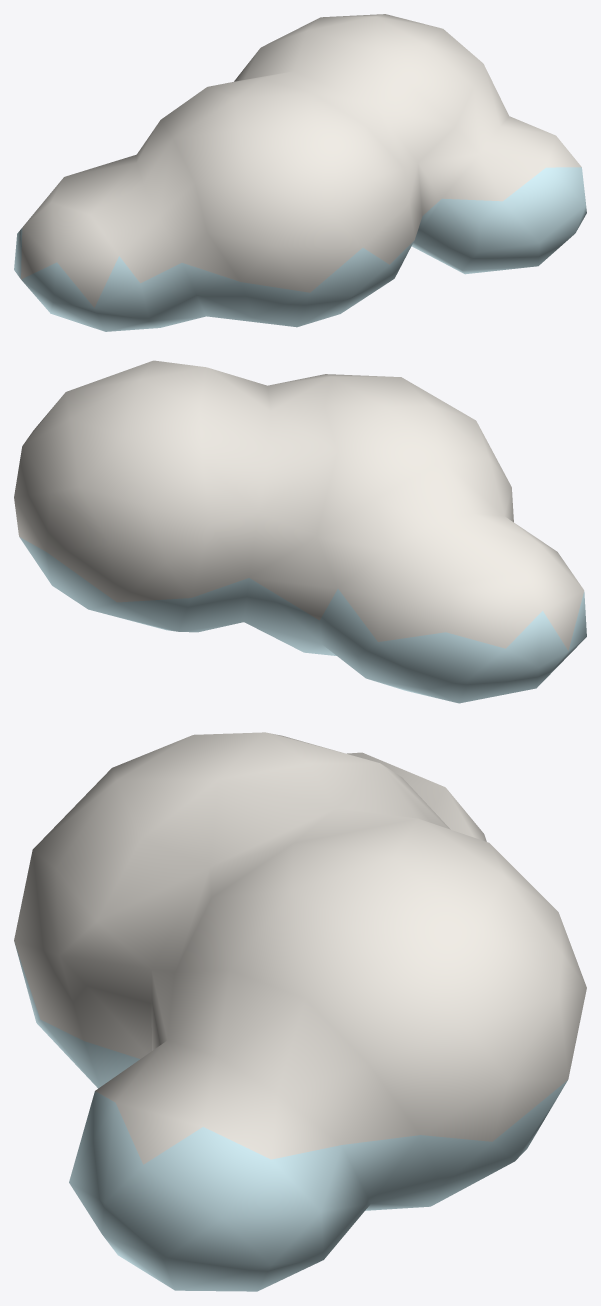
The model's file is mist_puff.fbx.
3 views of the same model, one above another, from view 1: azimuth 30°, elevation 25°; view 2: azimuth 150°, elevation 25°; view 3: azimuth 270°, elevation 25° (orthographic). The views are drawn at different scales.
Parts seen in each view (by area): view 1: mist_puff; view 2: mist_puff; view 3: mist_puff.
Part boxes in pixels (<box>): mist_puff: <box>14,14,586,331</box>; mist_puff: <box>14,360,586,703</box>; mist_puff: <box>14,732,586,1291</box>.
Bounding box in the file's own units: 0.6 × 0.25 × 0.353.
